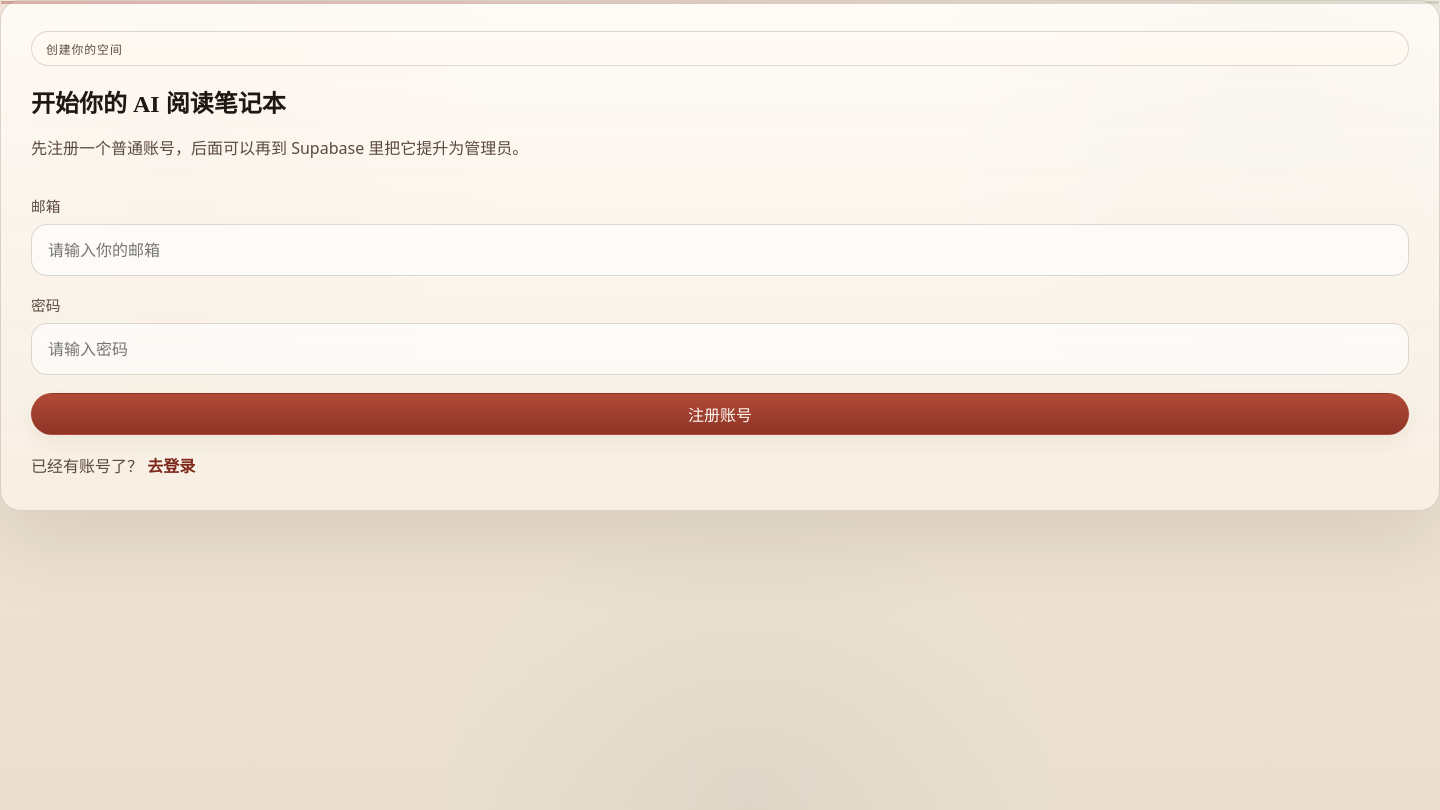
AuthForm › shows duplicate signup feedback when supabase masks an existing account
Type "user@example.com" into the field labelled "邮箱".
click(720, 250); type("user@example.com")  # box [31,224,1409,276]
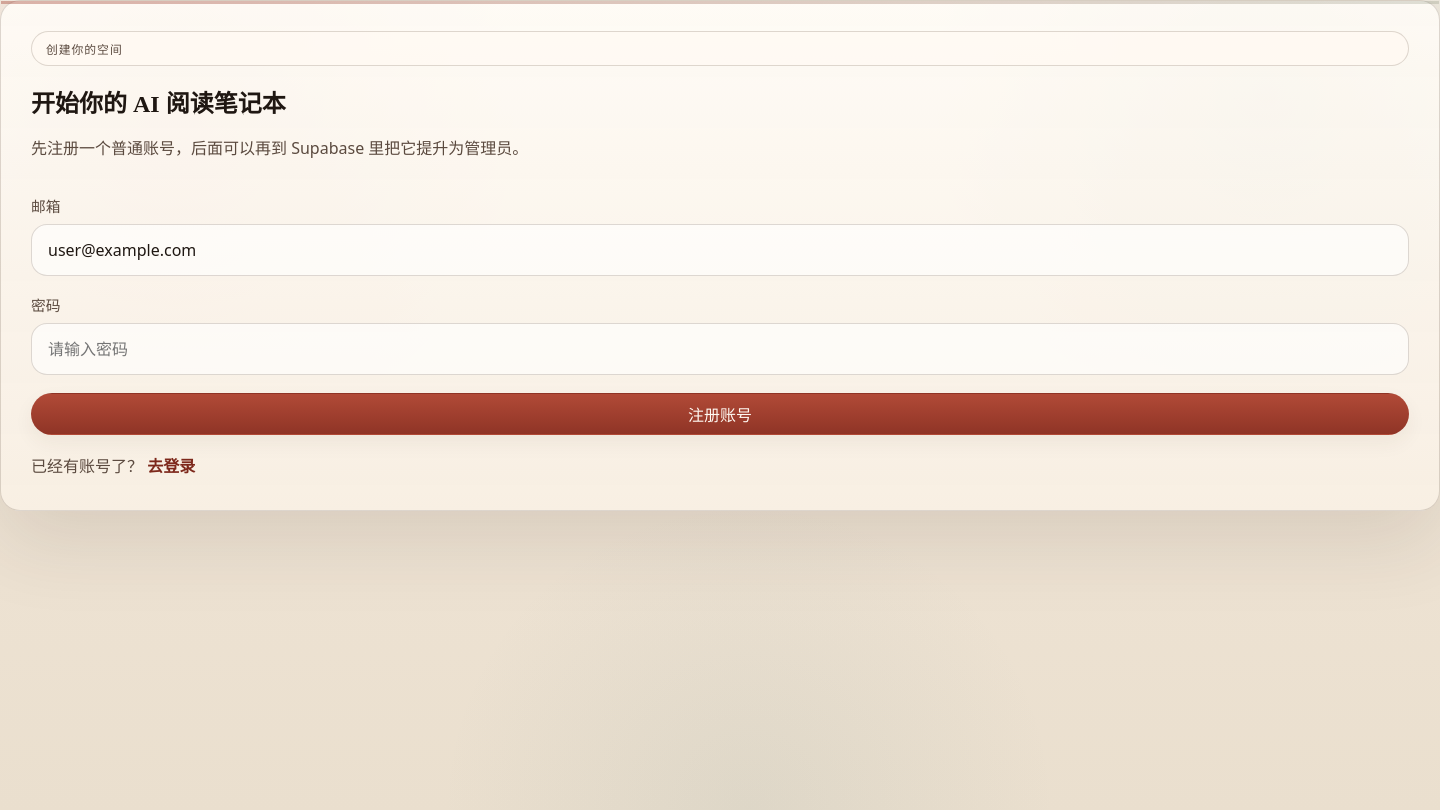
Type "password123" into the password field labelled "密码".
click(720, 349); type("password123")  # box [31,323,1409,375]
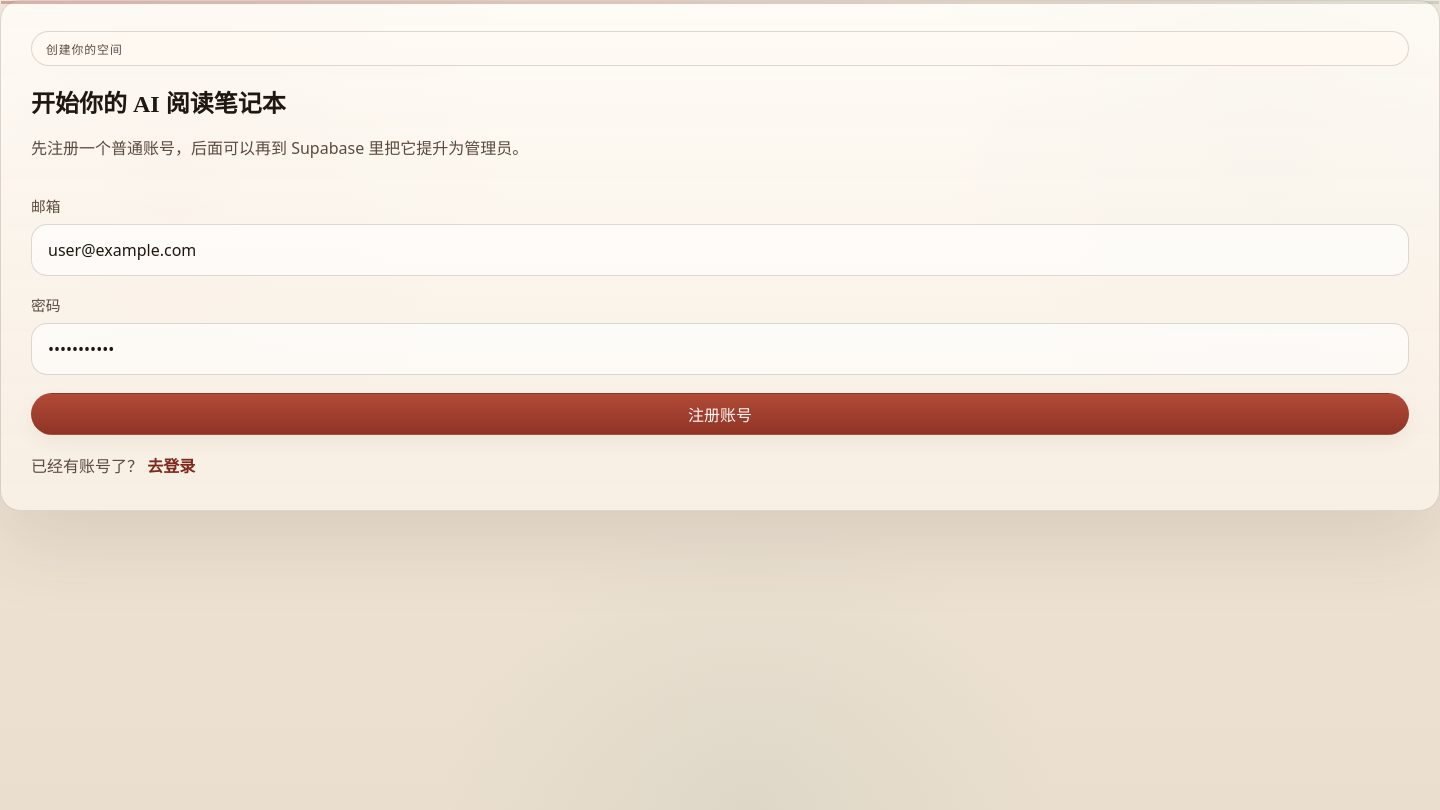
Click the button "注册账号".
click(720, 414)  # box [31,393,1409,435]
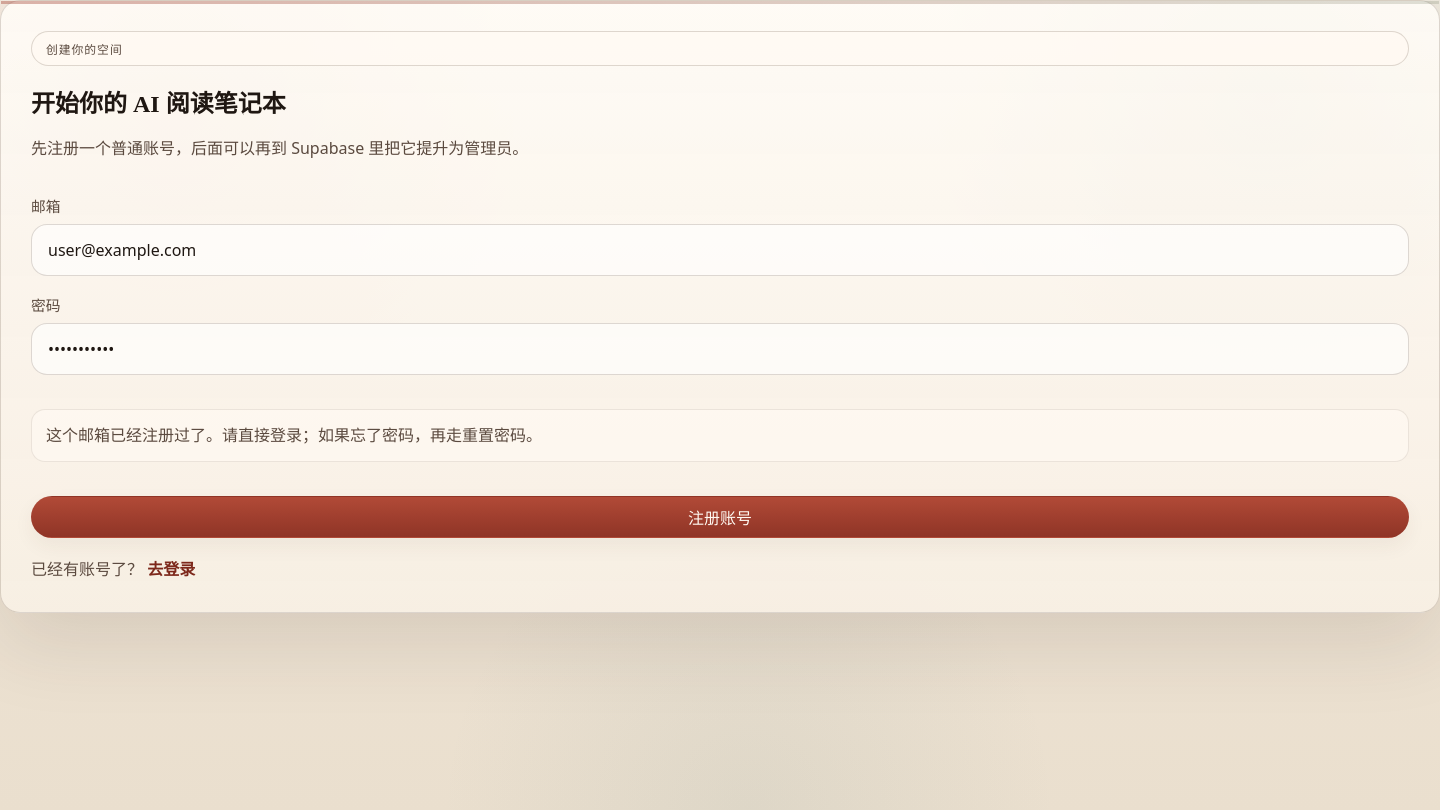
Expected: the text "这个邮箱已经注册过了。请直接登录；如果忘了密码，再走重置密码。" is shown, [31,409,1409,462]
